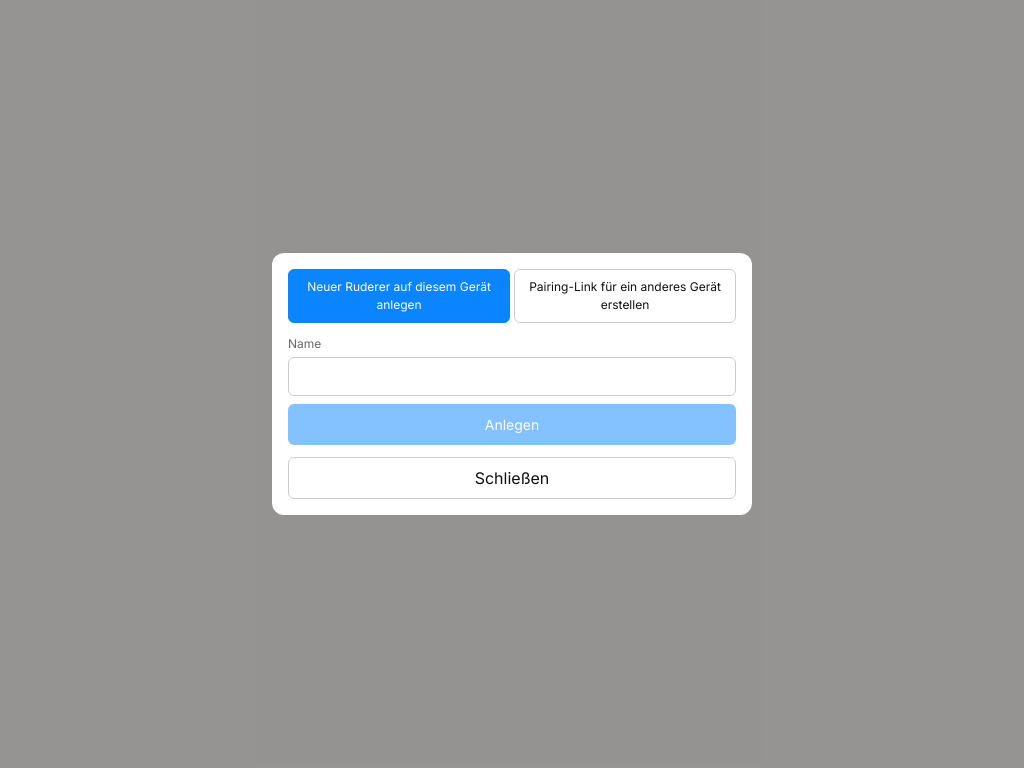
it: PairingModal › mint flow shows URL + QR after success
The image size is (1024, 768).
Click the button "Pairing-Link für ein anderes Gerät erstellen" at (625, 296), box [514,269,736,323]
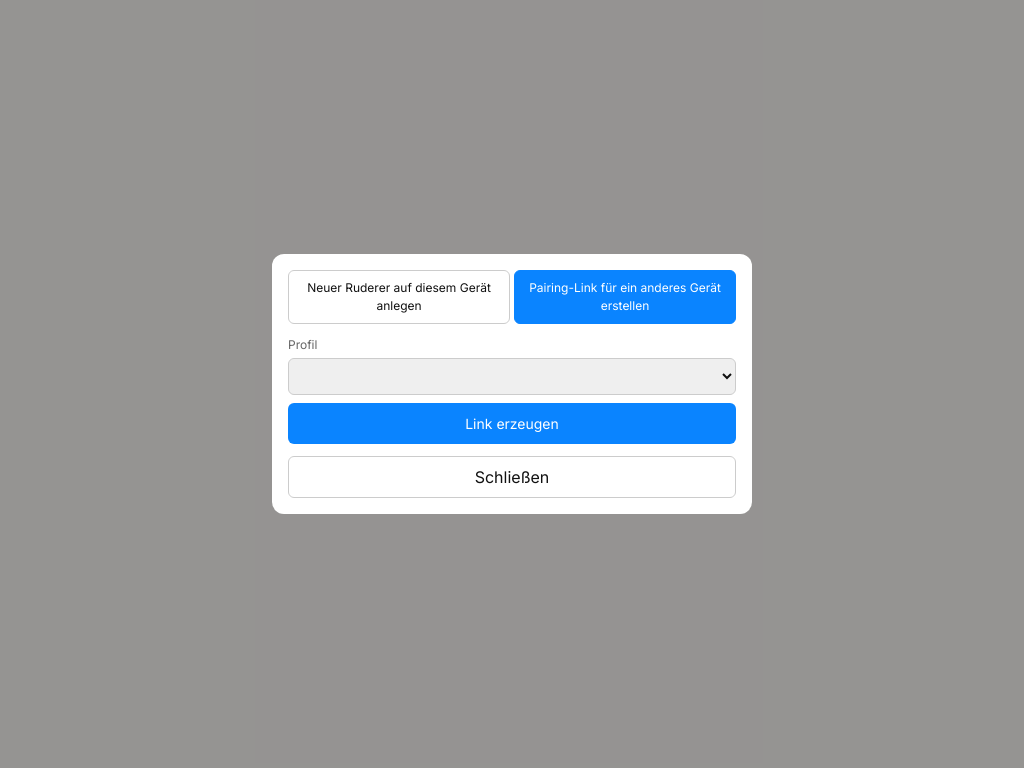
Click the button "Link erzeugen" at (512, 424), box [288,403,736,444]
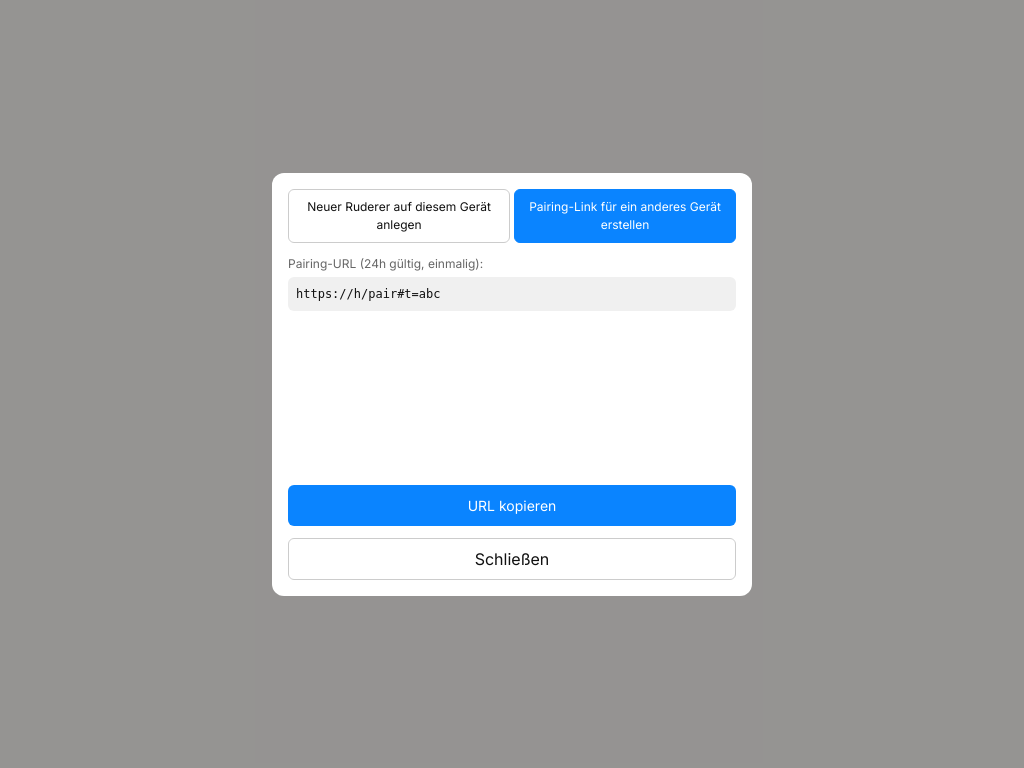
Check: the text "https://h/pair#t=abc" is shown, box [288,276,736,310]
